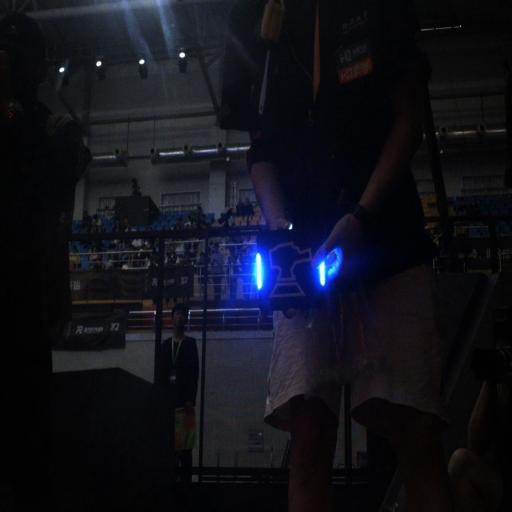target: (252, 228, 334, 306)
